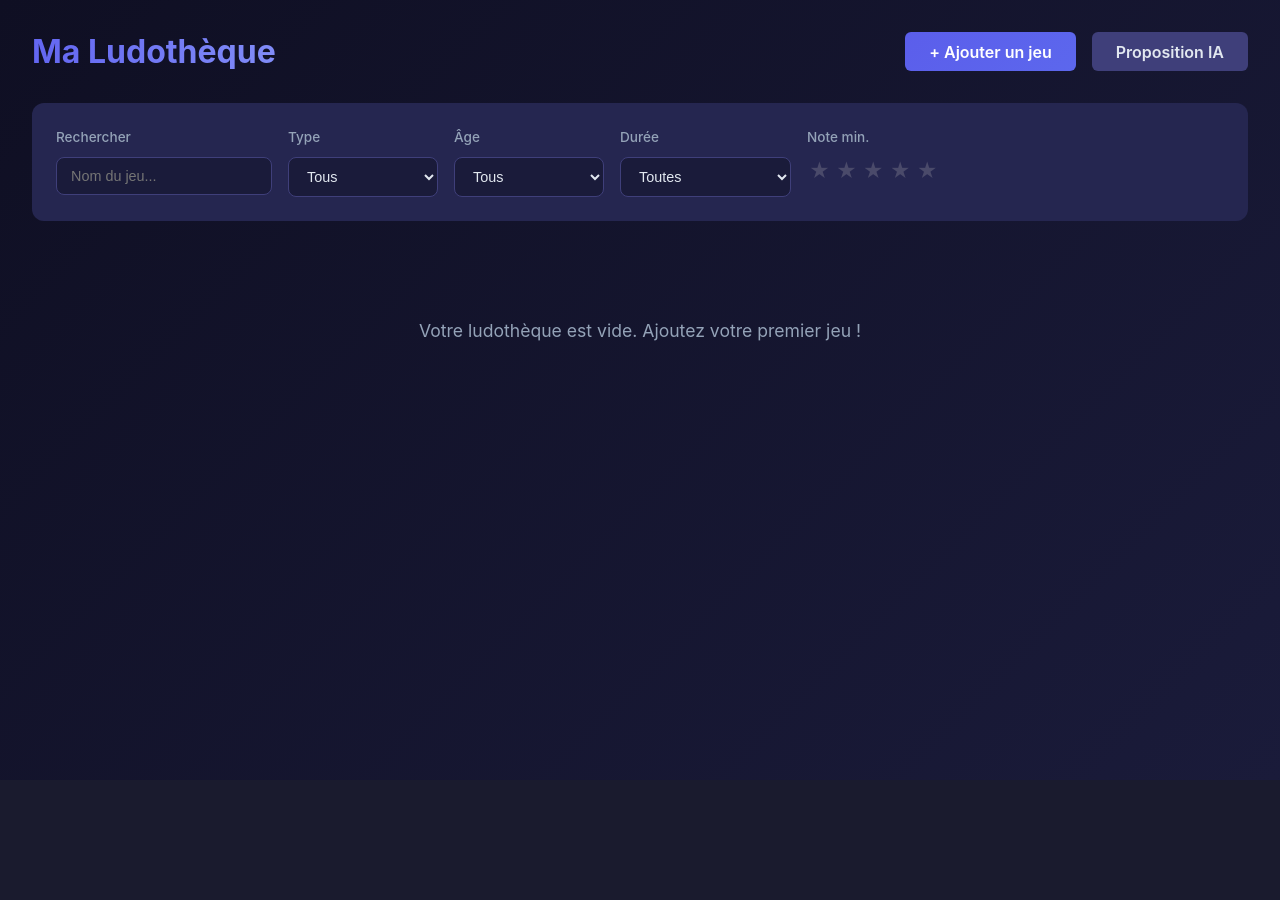
Test: LudothequePage › opens suggestion modal and shows loading
Click the button "Proposition IA". click: (1170,52)
box: [1092, 32, 1248, 71]
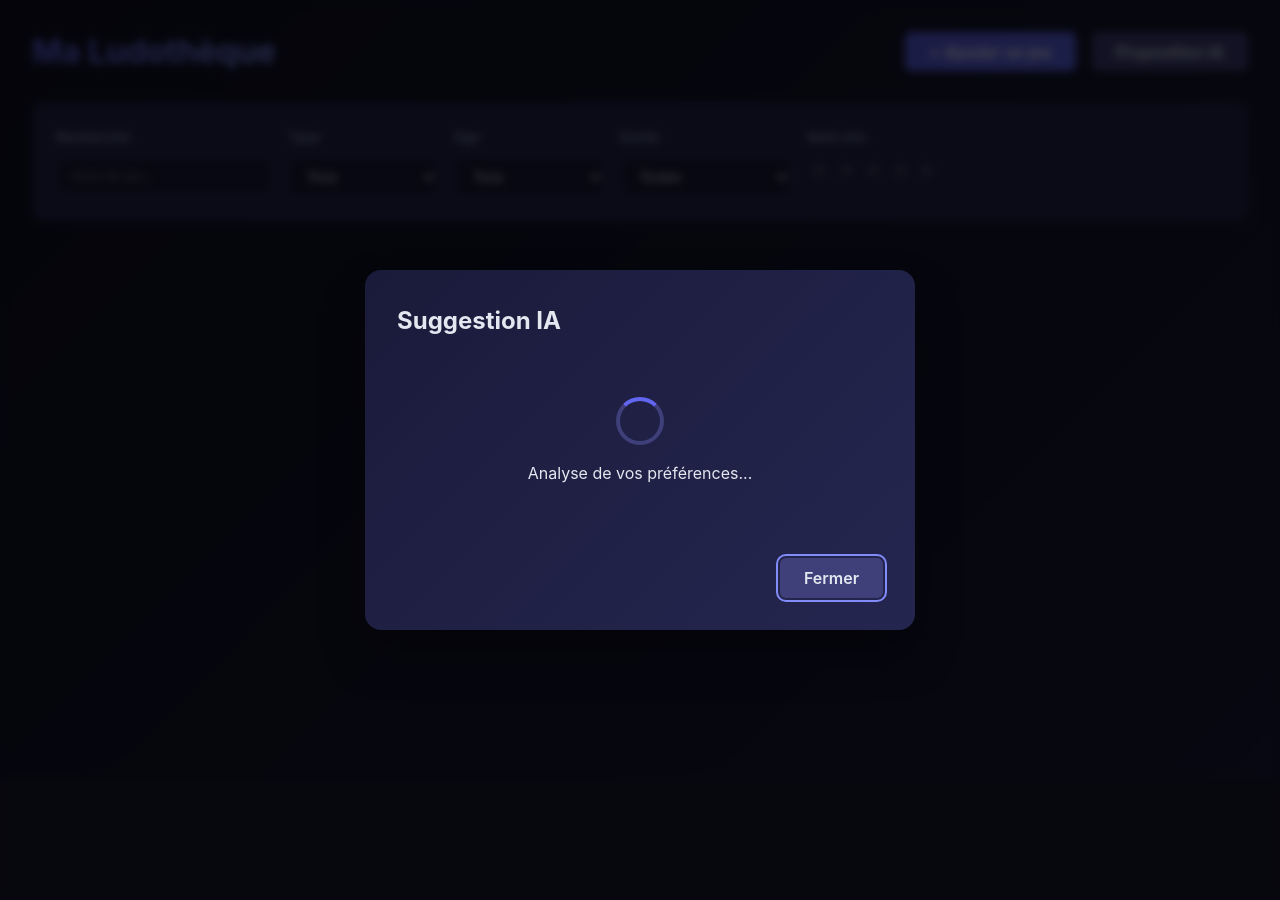
expect the heading "Suggestion IA" is shown: met, box [397, 306, 561, 335]
expect the text "Analyse de vos préférences..." is shown: met, box [528, 463, 752, 483]
